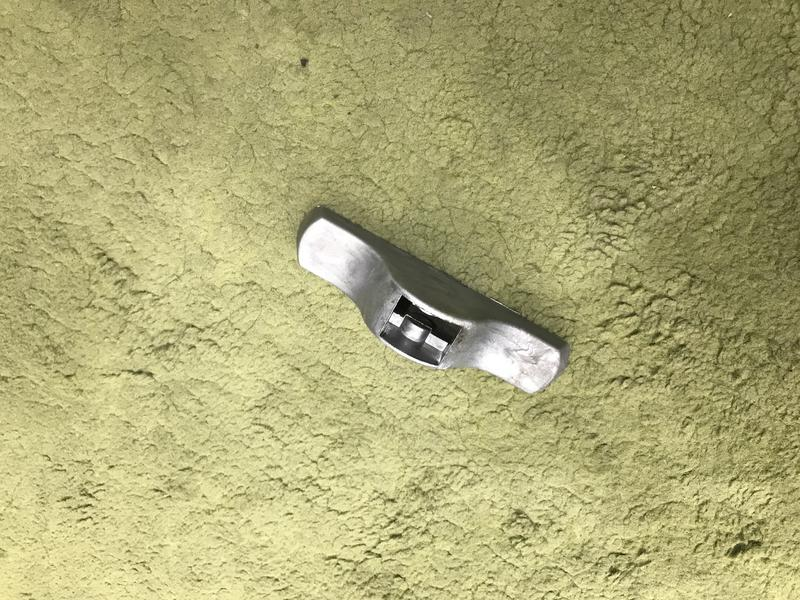zapchast: (285, 197, 581, 413)
